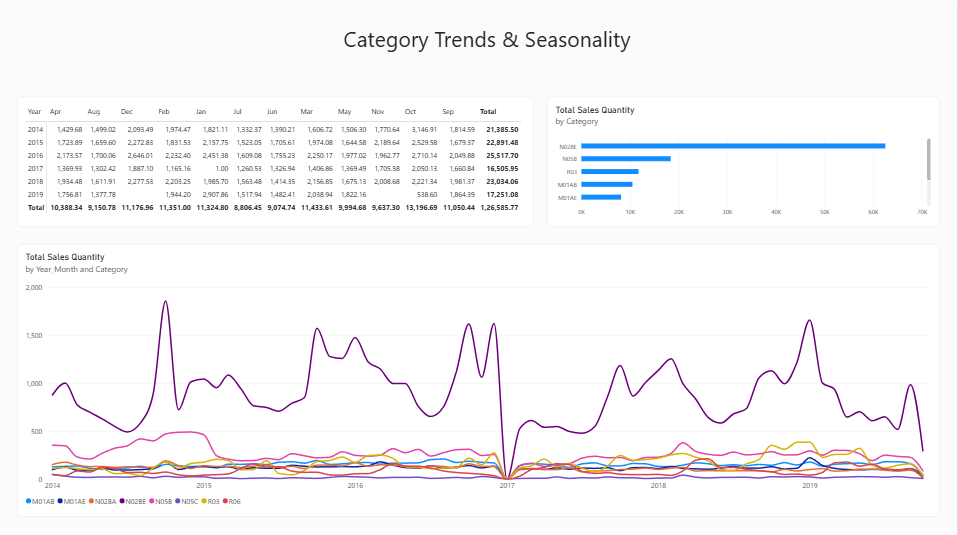

What the dashboard file says about the page in this screenshot:
{"tool":"powerbi","page":{"name":"Page 2","canvas":[1920,1080],"ordinal":1},"visuals":[{"type":"pivotTable","fields":{"Columns":["powerbi_sales.Month_Name"],"Rows":["powerbi_sales.Year"],"Values":["_Measures.Total Sales Quantity"]},"box":[40,197.5,1032.5,260],"z":0},{"type":"clusteredBarChart","fields":{"Category":["powerbi_sales.Category"],"Y":["_Measures.Total Sales Quantity"]},"box":[1100,197.5,785,260],"z":1000},{"type":"lineChart","fields":{"Category":["powerbi_sales.Year_Month"],"Series":["powerbi_sales.Category"],"Y":["_Measures.Total Sales Quantity"]},"box":[40,492.5,1845,545],"z":2000},{"type":"textbox","box":[40,52.5,1880,112.5],"z":2001}]}

Visuals, with their boxes in screenshot pixels (x1, y1, x2, y2), scaled from the page's 1920x1080 canvas onto the 958x535 screenshot:
pivotTable - powerbi_sales.Month_Name x powerbi_sales.Year: BBox(20, 98, 535, 227)
clusteredBarChart - powerbi_sales.Category x _Measures.Total Sales Quantity: BBox(549, 98, 941, 227)
lineChart - powerbi_sales.Year_Month x powerbi_sales.Category: BBox(20, 244, 941, 514)
textbox: BBox(20, 26, 957, 82)
